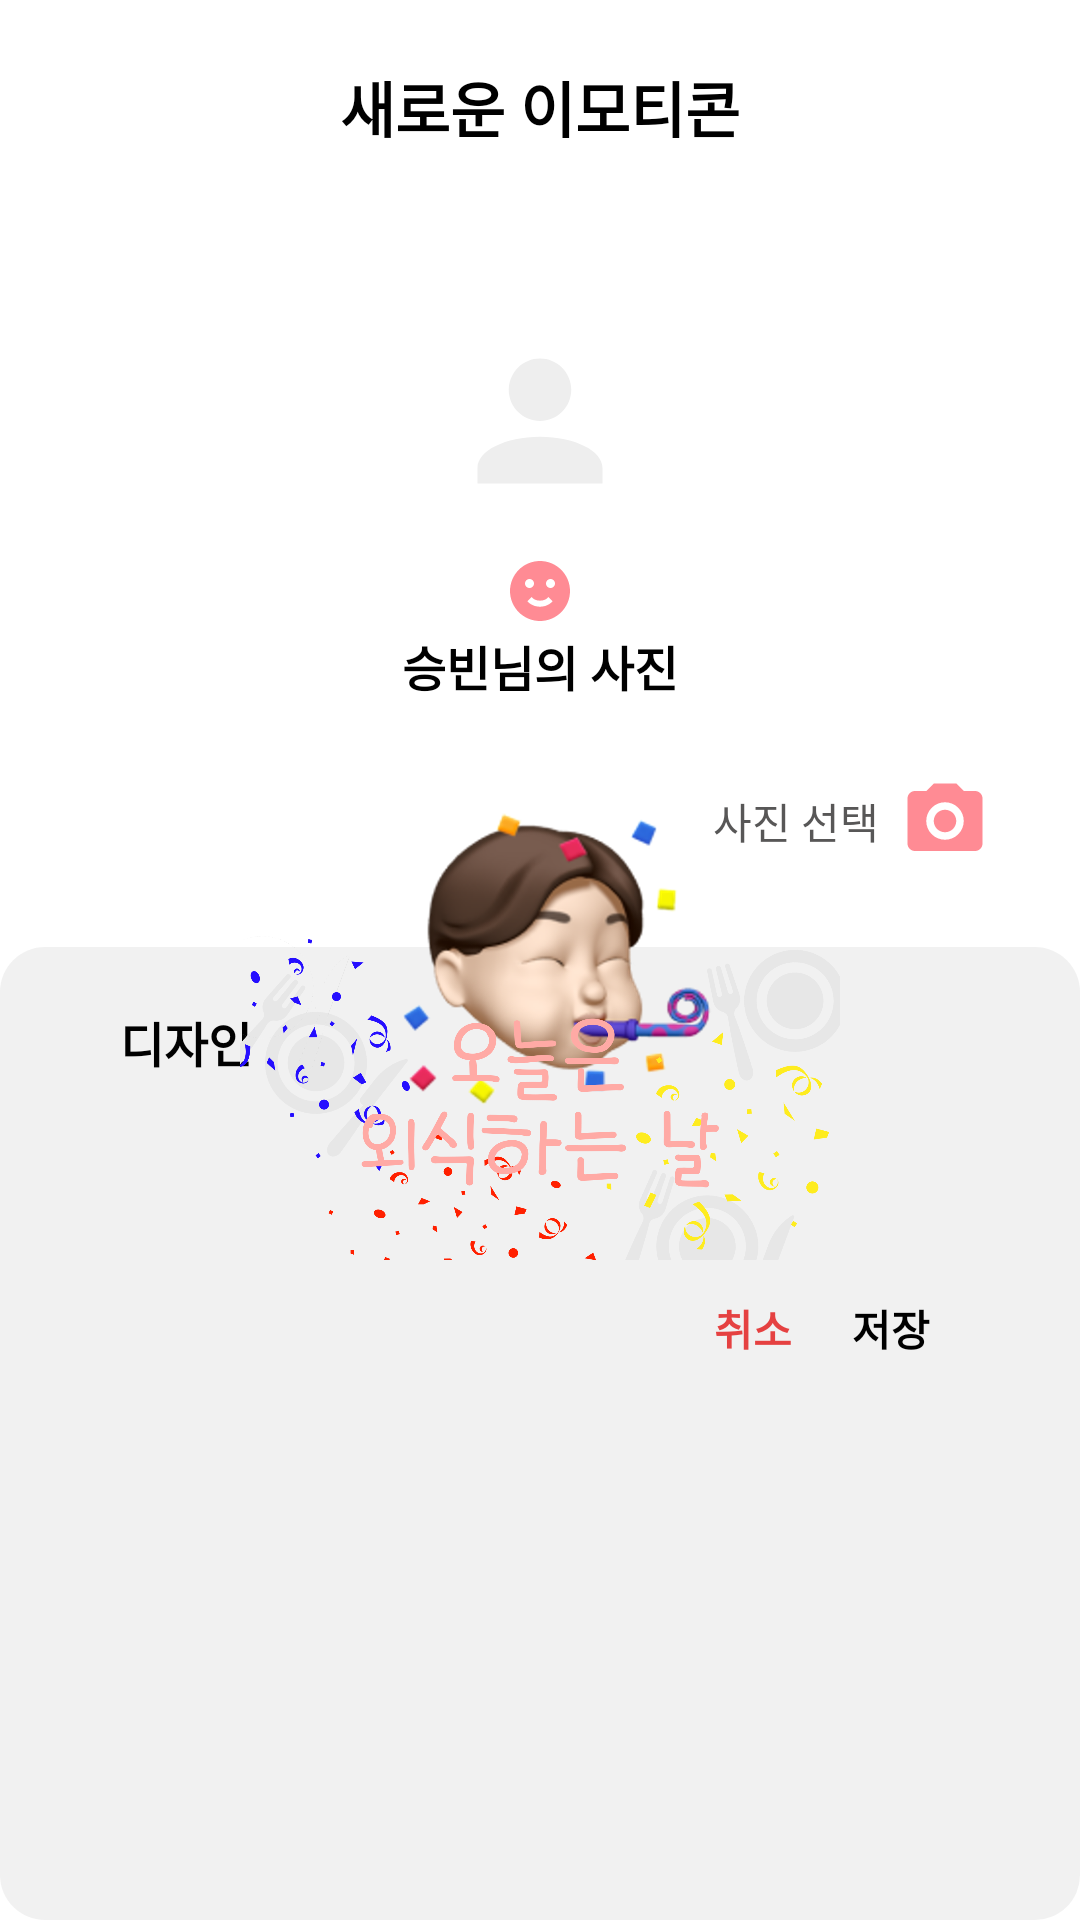

Icon bounding boxes for this 1080x1920 phone screenshot, format bbox=[x1, y1, x2, y2]:
chat camera: bbox=[907, 783, 983, 851]
emoji popup: bbox=[510, 561, 570, 621]
